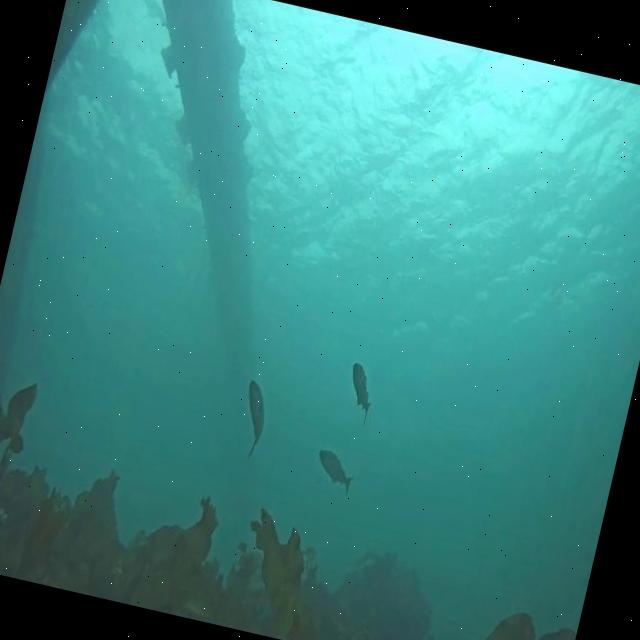fish: (232, 376, 274, 458), (310, 448, 358, 497), (342, 364, 378, 421)
